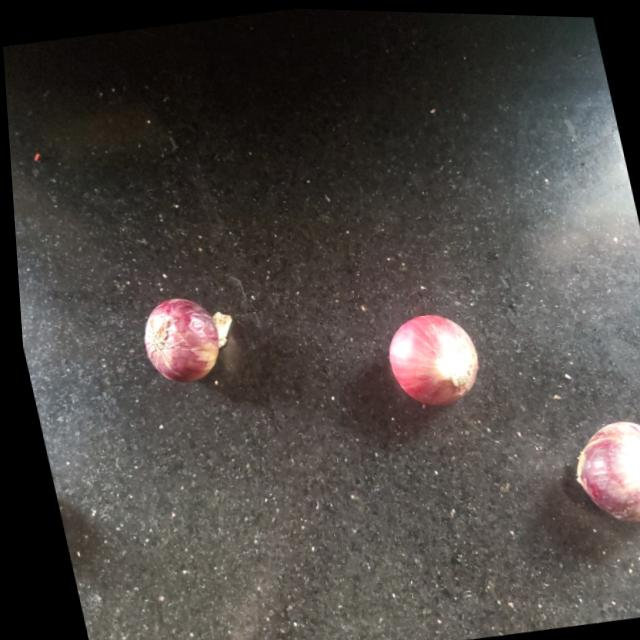onion: (374, 303, 484, 407), (557, 407, 640, 530), (129, 289, 225, 385)
